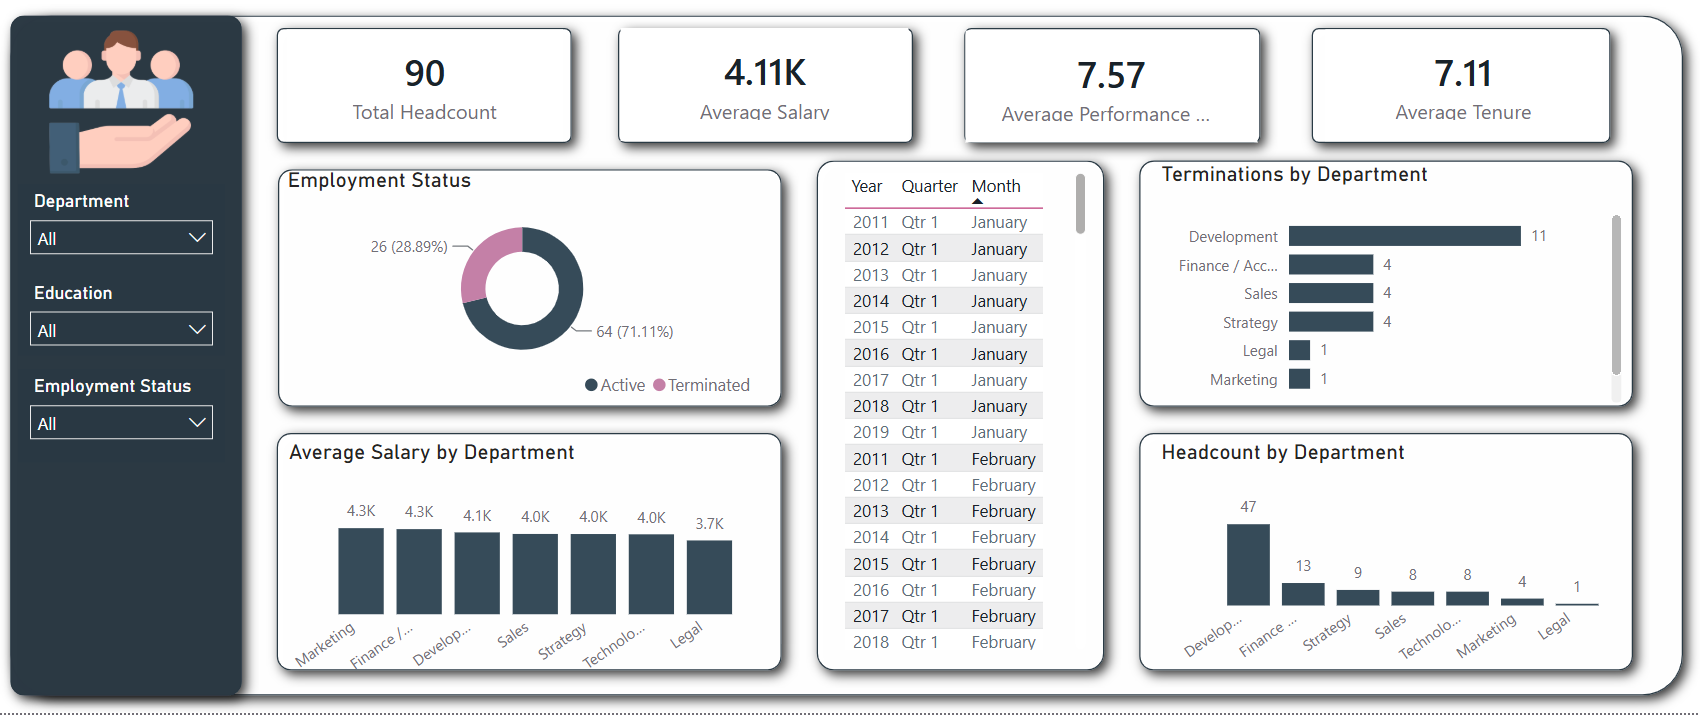

The page's visual inventory and layout, read from the dashboard file:
{"tool":"powerbi","page":{"name":"Dashboard ","canvas":[1366,572],"ordinal":0},"visuals":[{"type":"shape","box":[0,0,1366,572],"z":0},{"type":"shape","box":[0,0,213,572],"z":1000},{"type":"shape","box":[213,10,264,120],"z":2000},{"type":"shape","box":[1041,10,267,120],"z":3000},{"type":"shape","box":[763,10,265,120],"z":4000},{"type":"shape","box":[486,10,264,120],"z":5000},{"type":"shape","box":[214,123,431,218],"z":6000},{"type":"shape","box":[903,116,423,225],"z":7000},{"type":"shape","box":[213,334,432,218],"z":8000},{"type":"shape","box":[903,334,423,218],"z":9000},{"type":"shape","box":[645,116,258,436],"z":10000},{"type":"clusteredColumnChart","title":"Headcount by Department","fields":{"Y":["CountNonNull(Sheet1.ID)"],"Category":["Sheet1.Department"]},"box":[930,353,378,190],"z":11000},{"type":"barChart","title":"Terminations  by Department","fields":{"Category":["Sheet1.Department"],"Y":["CountNonNull(Sheet1.Termination Date)"]},"box":[930,130,378,199],"z":12000},{"type":"clusteredColumnChart","title":"Average  Salary by Department","fields":{"Category":["Sheet1.Department"],"Y":["Avg(Employees.Salary)"]},"box":[232,353,384,199],"z":13000},{"type":"donutChart","title":" Employment Status ","fields":{"Y":["CountNonNull(Sheet1.ID)"],"Category":["Sheet1.Employment Status "]},"box":[231,135,385,194],"z":14000},{"type":"tableEx","fields":{"Values":["Sheet1.Hire Date.Variation.Date Hierarchy.Year","Sheet1.Hire Date.Variation.Date Hierarchy.Quarter","Sheet1.Hire Date.Variation.Date Hierarchy.Month"]},"box":[676,135,204,392],"z":15000},{"type":"cardVisual","fields":{"Data":["CountNonNull(Sheet1.ID)"]},"box":[235,25,221,90],"z":16000},{"type":"cardVisual","fields":{"Data":["Avg(Employees.Salary)"]},"box":[502,24,231,91],"z":17000},{"type":"cardVisual","fields":{"Data":["Avg(Employees.Performance Review)"]},"box":[778,26,234,90],"z":18000},{"type":"cardVisual","fields":{"Data":["Avg(Sheet1.Tenure )"]},"box":[1066,25,221,90],"z":19000},{"type":"slicer","fields":{"Values":["Department Bridge.Department"]},"box":[20,149,166,73],"z":20000},{"type":"slicer","fields":{"Values":["Sheet1.Employment Status "]},"box":[20.3,286.1,166,75],"z":21000},{"type":"slicer","fields":{"Values":["Sheet1.Education"]},"box":[20,222,166,64],"z":22000},{"type":"image","box":[33,26,140,115],"z":23000}]}

Visuals, with their boxes in screenshot pixels (x1, y1, x2, y2), scaled from the page's 1366x572 canvas onto the 1700x718 screenshot:
shape: left=0, top=0, right=1699, bottom=717
shape: left=0, top=0, right=265, bottom=717
shape: left=265, top=13, right=594, bottom=163
shape: left=1296, top=13, right=1628, bottom=163
shape: left=950, top=13, right=1279, bottom=163
shape: left=605, top=13, right=933, bottom=163
shape: left=266, top=154, right=803, bottom=428
shape: left=1124, top=146, right=1650, bottom=428
shape: left=265, top=419, right=803, bottom=693
shape: left=1124, top=419, right=1650, bottom=693
shape: left=803, top=146, right=1124, bottom=693
"Headcount by Department" clusteredColumnChart: left=1157, top=443, right=1628, bottom=682
"Terminations  by Department" barChart: left=1157, top=163, right=1628, bottom=413
"Average  Salary by Department" clusteredColumnChart: left=289, top=443, right=767, bottom=693
" Employment Status " donutChart: left=287, top=169, right=767, bottom=413
tableEx - Sheet1.Hire Date.Variation.Date Hierarchy.Year x Sheet1.Hire Date.Variation.Date Hierarchy.Quarter: left=841, top=169, right=1095, bottom=662
cardVisual - CountNonNull(Sheet1.ID): left=292, top=31, right=567, bottom=144
cardVisual - Avg(Employees.Salary): left=625, top=30, right=912, bottom=144
cardVisual - Avg(Employees.Performance Review): left=968, top=33, right=1259, bottom=146
cardVisual - Avg(Sheet1.Tenure ): left=1327, top=31, right=1602, bottom=144
slicer - Department Bridge.Department: left=25, top=187, right=231, bottom=279
slicer - Sheet1.Employment Status : left=25, top=359, right=232, bottom=453
slicer - Sheet1.Education: left=25, top=279, right=231, bottom=359
image: left=41, top=33, right=215, bottom=177
